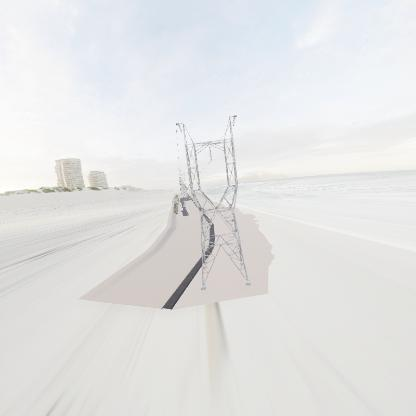tower: (169, 109, 248, 290)
